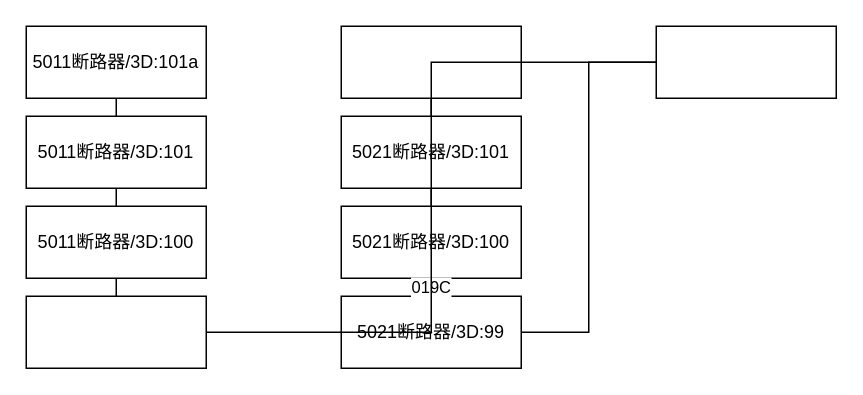
Some shapes in this 863 by 395 pixel diagram are drawn without their labels. Here are the shapes that lost their labels. From the top down, the box of each, then its label:
(340, 25, 521, 98): 5021断路器/3D:101a
(655, 25, 836, 98): 3ZJ4:1
(25, 295, 206, 368): 5011断路器/3D:99
